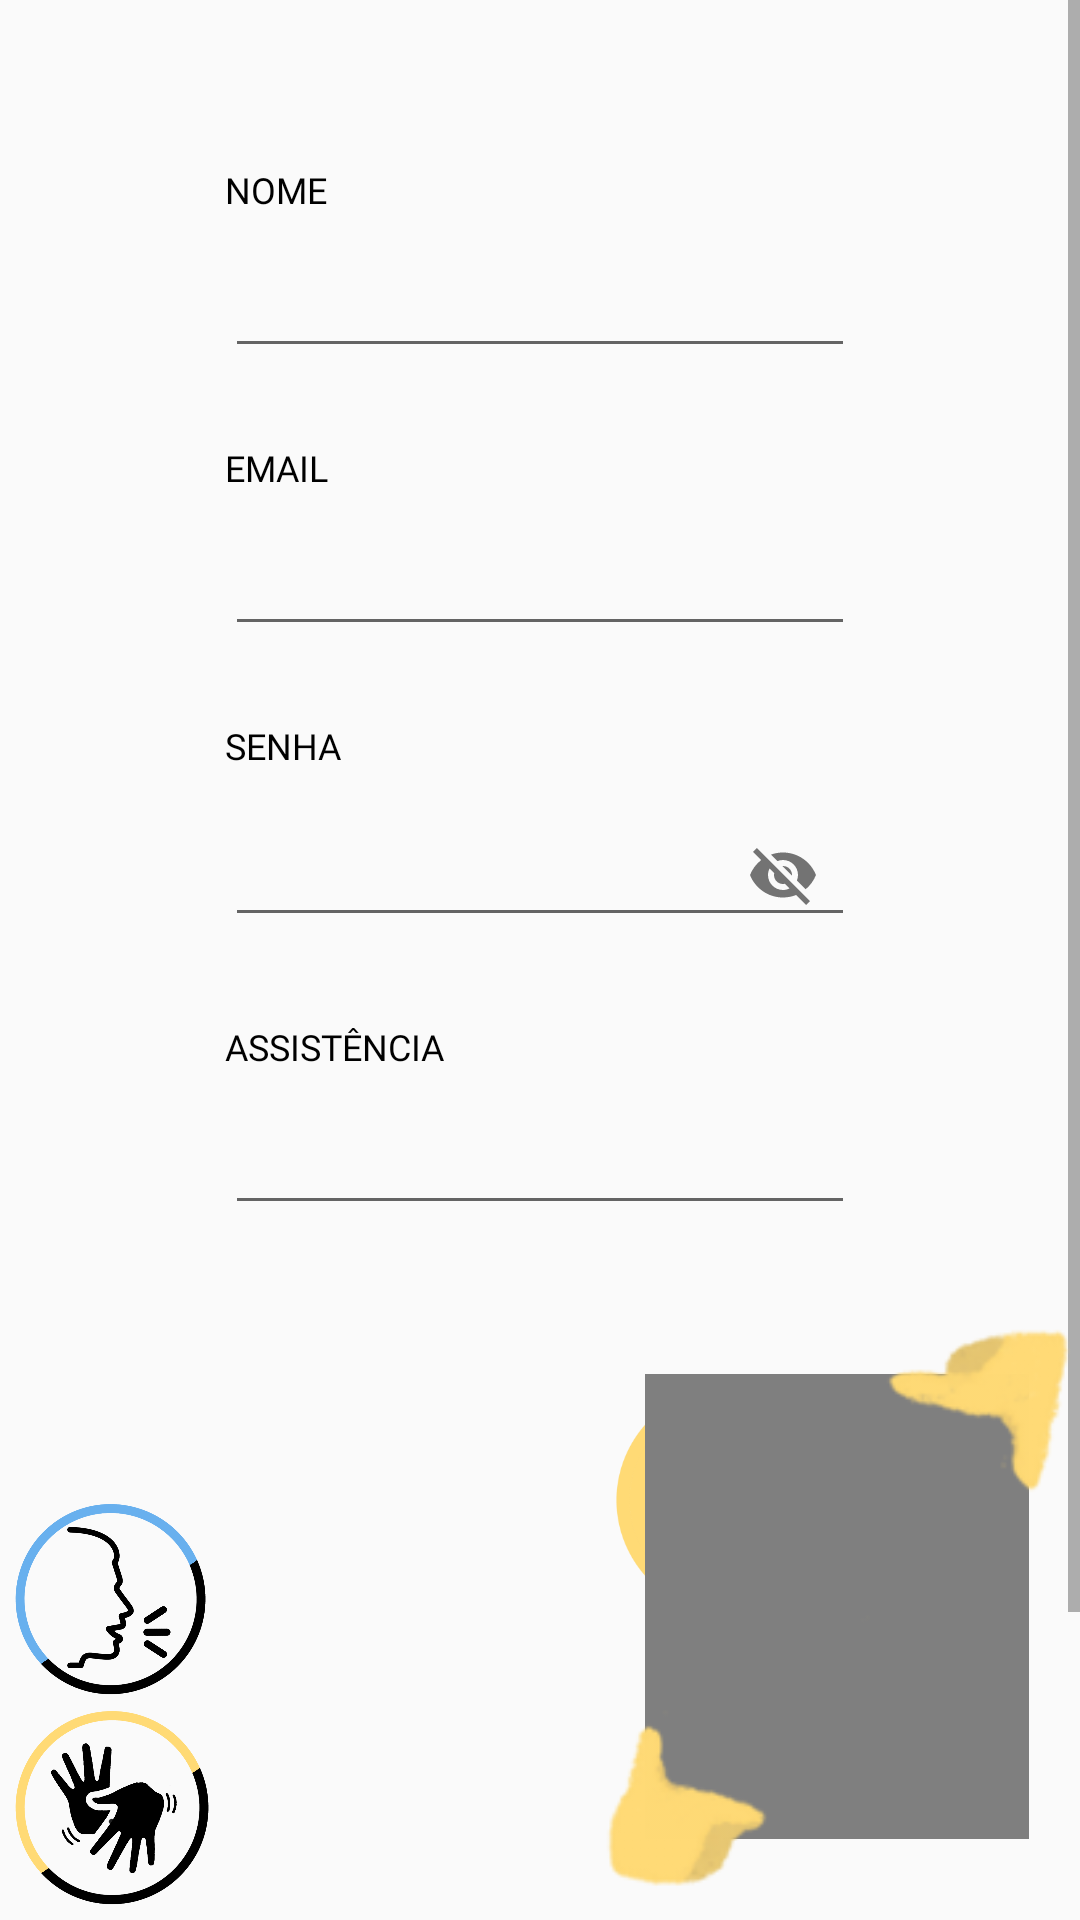

Screen size 1080*1920. Icon name, then its center in pixels as (x=x, y=y):
falar: (x=110, y=1599)
